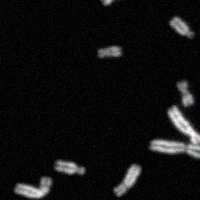chromosome: (167, 105, 200, 144), (112, 163, 141, 198), (150, 140, 200, 157), (14, 177, 51, 199), (170, 16, 193, 38), (54, 161, 83, 175), (177, 80, 192, 106), (96, 46, 121, 57), (101, 0, 135, 4)
